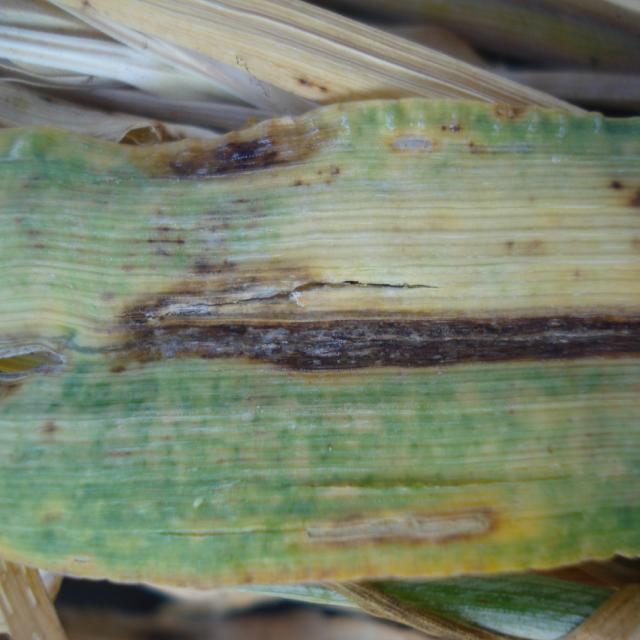wheat-septoria: (85, 206, 640, 422)
